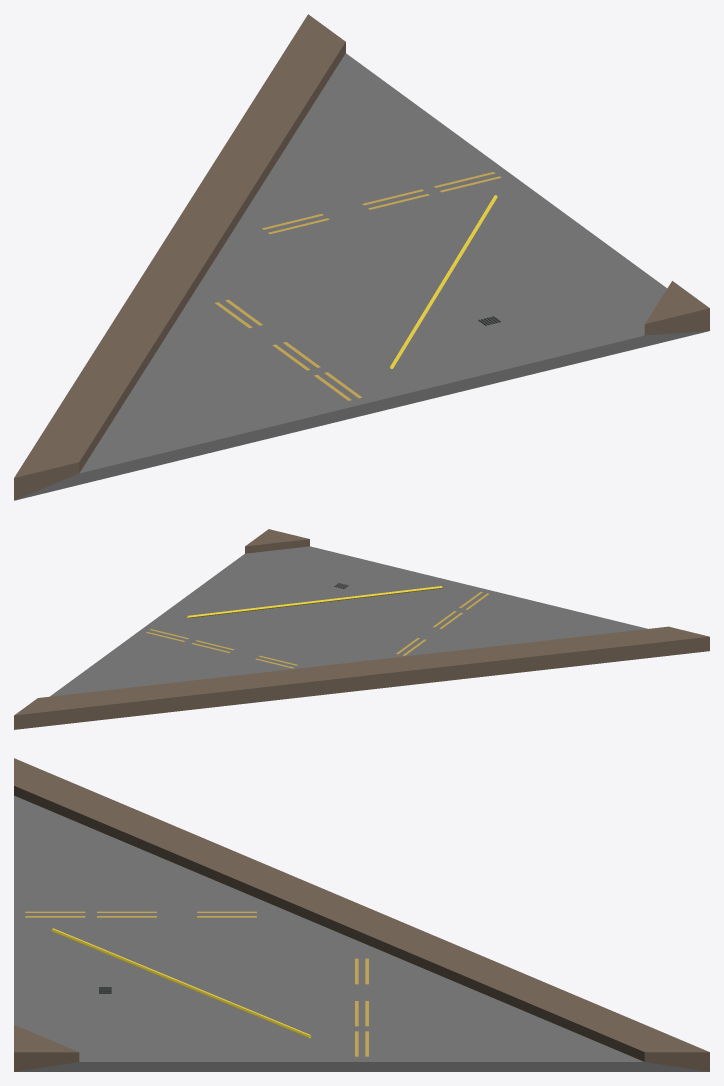
3 renders of one model, top to bottom at view 1: azimuth 30°, elevation 25°; view 2: azimuth 150°, elevation 25°; view 3: azimuth 270°, elevation 25°, orthographic. The views are drawn at different scales.
Parts seen in each view (by area): view 1: RD35 | archived geometry, Fitted street and landscape details, RD35 | line, light and sprite surfaces; view 2: RD35 | archived geometry, Fitted street and landscape details, RD35 | line, light and sprite surfaces; view 3: RD35 | archived geometry, Fitted street and landscape details, RD35 | line, light and sprite surfaces.
Boxes of the visible parts, x1,y1,x2,y2 form: RD35 | archived geometry: [14, 14, 709, 500]; Fitted street and landscape details: [215, 172, 501, 400]; RD35 | line, light and sprite surfaces: [390, 195, 497, 368]; RD35 | archived geometry: [14, 529, 709, 729]; Fitted street and landscape details: [146, 583, 489, 668]; RD35 | line, light and sprite surfaces: [187, 586, 442, 618]; RD35 | archived geometry: [14, 758, 709, 1071]; Fitted street and landscape details: [25, 911, 368, 1056]; RD35 | line, light and sprite surfaces: [51, 928, 311, 1038].
Bounding box in the file's own units: 16 × 0.5 × 16.
